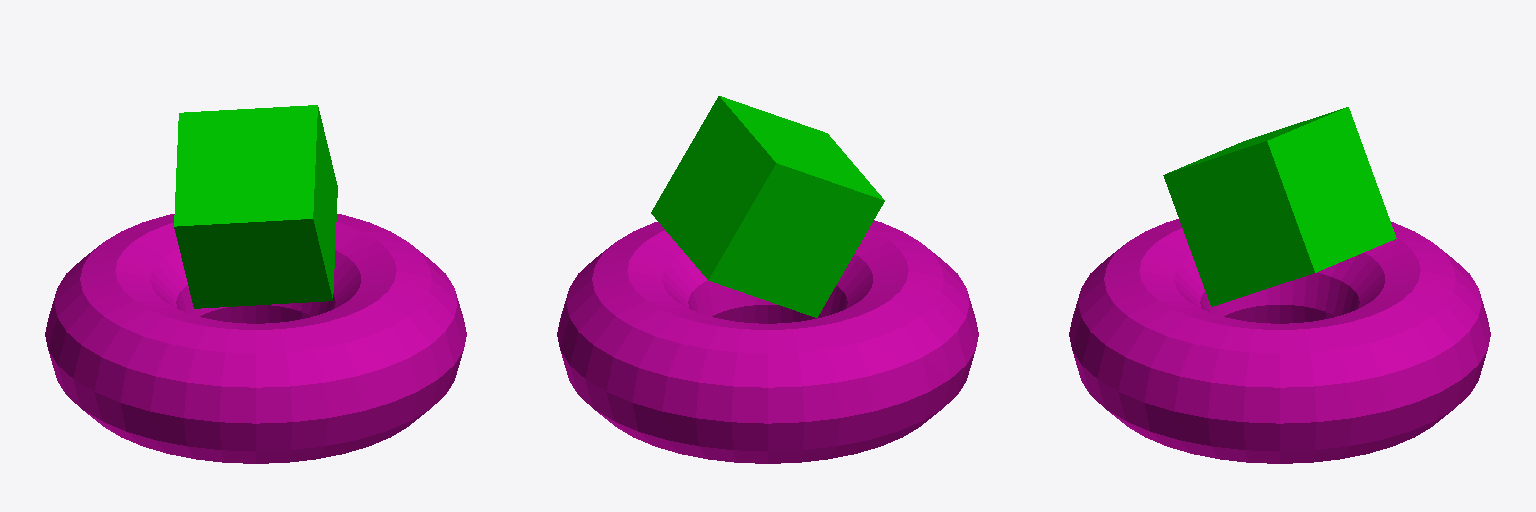
Rendered from simpleScene1.obj.
3 renders of one model, left to right at view 1: azimuth 30°, elevation 25°; view 2: azimuth 150°, elevation 25°; view 3: azimuth 270°, elevation 25°, orthographic.
Parts seen in each view (by area): view 1: Torus, Cube_Cube.001; view 2: Torus, Cube_Cube.001; view 3: Torus, Cube_Cube.001.
Boxes of the visible parts, x1=… form: Torus: x1=45, y1=214, x2=466, y2=463; Cube_Cube.001: x1=174, y1=105, x2=337, y2=308; Torus: x1=557, y1=220, x2=978, y2=463; Cube_Cube.001: x1=651, y1=96, x2=884, y2=317; Torus: x1=1069, y1=219, x2=1490, y2=463; Cube_Cube.001: x1=1163, y1=107, x2=1396, y2=306.
Bounding box in the file's own units: 3 × 2.23 × 3.